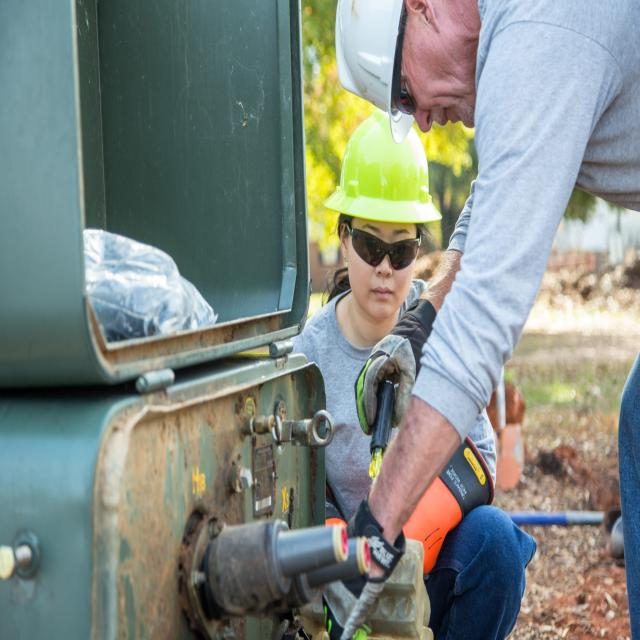gloves: (352, 292, 439, 433), (321, 497, 406, 639)
